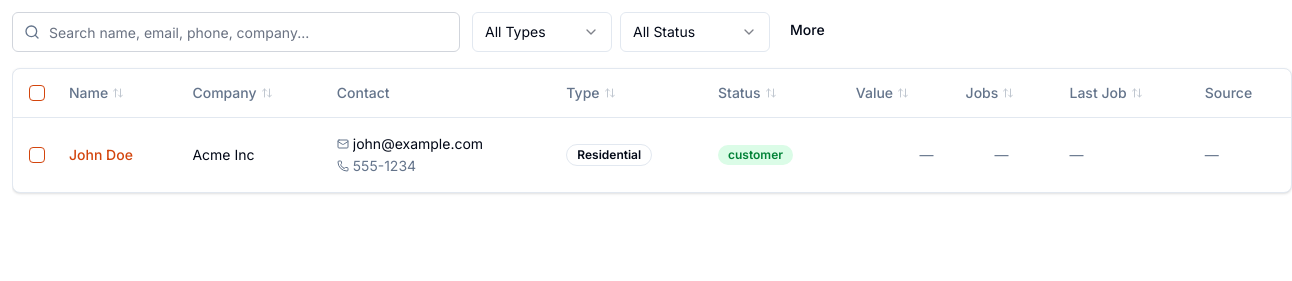
Test: CustomerList › bulk selection › shows the bulk actions toolbar after selecting a row
The image size is (1292, 281).
Expected: the text "selected" is not shown
Click the checkbox named "Select John Doe": x=37, y=154 top-left (29, 146), bottom-right (45, 162)
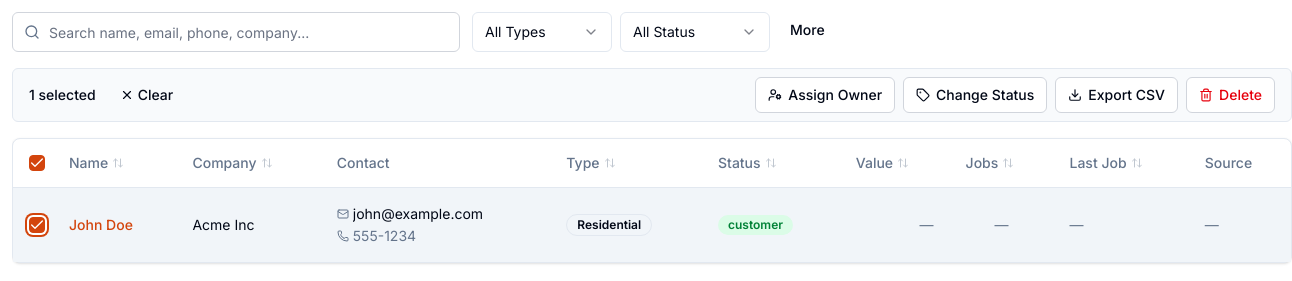
Result: the text "1 selected" is shown at top-left (29, 85), bottom-right (96, 105)
